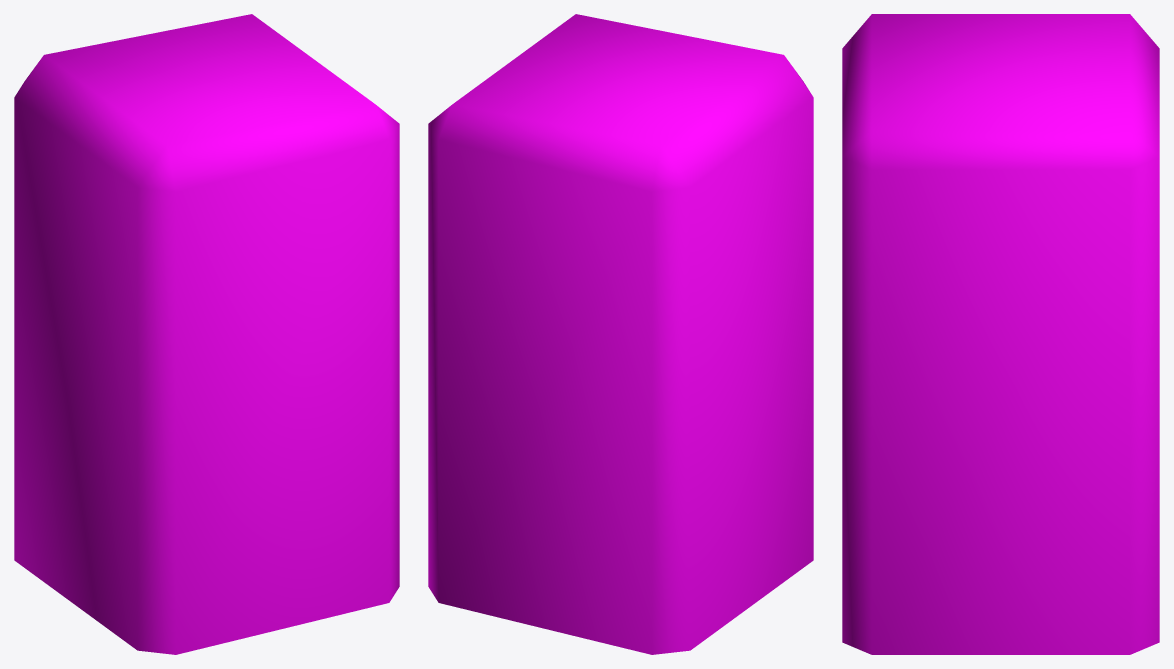
File: stone_cubic_weathered_01.glb
3 renders of one model, left to right at view 1: azimuth 30°, elevation 25°; view 2: azimuth 150°, elevation 25°; view 3: azimuth 270°, elevation 25°, orthographic. The views are drawn at different scales.
Parts seen in each view (by area): view 1: Cube_006-mesh; view 2: Cube_006-mesh; view 3: Cube_006-mesh.
Boxes of the visible parts, left/top/right/bottom form: Cube_006-mesh: left=14, top=14, right=399, bottom=654; Cube_006-mesh: left=428, top=14, right=813, bottom=654; Cube_006-mesh: left=842, top=14, right=1159, bottom=654.
Bounding box in the file's own units: 6.22 × 11.29 × 6.22.
